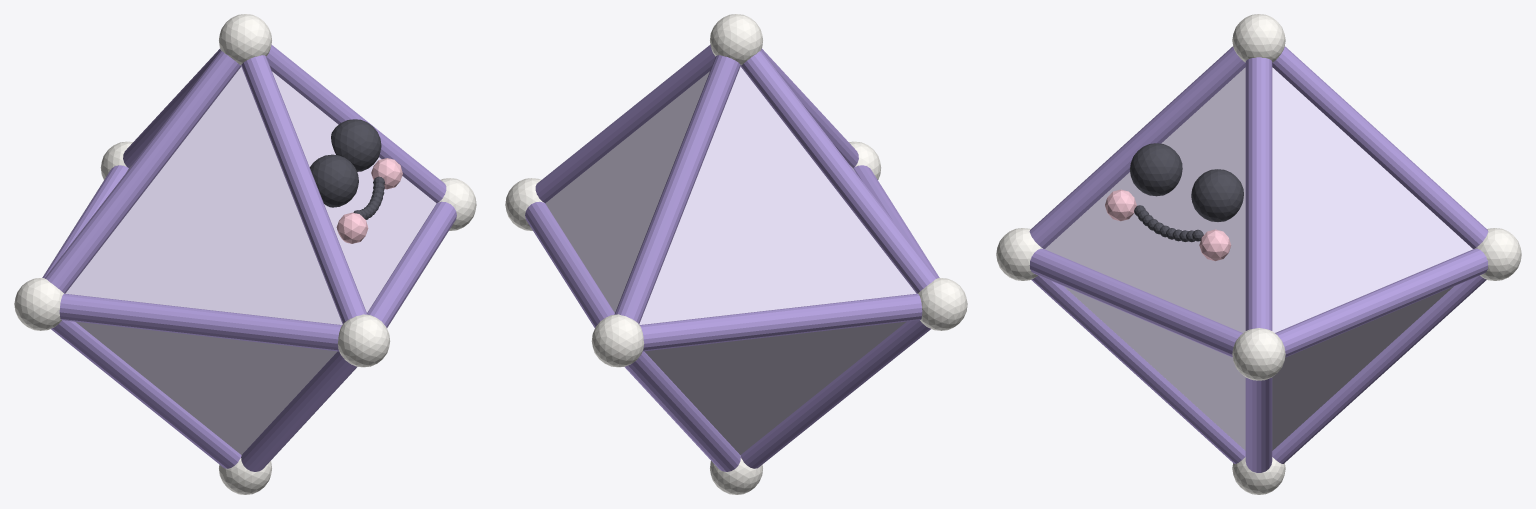
Rendered from 8octahedron_cute_smile_facets_edges_vertices.glb.
The picture shows the model from 3 angles, left to right: view 1: azimuth 30°, elevation 25°; view 2: azimuth 150°, elevation 25°; view 3: azimuth 270°, elevation 25°; orthographic projection.
Visible parts, largest first — view 1: OctaBody, OctaEdges, OctaVertices, CuteFaceFeatures, CuteCheeks; view 2: OctaBody, OctaEdges, OctaVertices; view 3: OctaBody, OctaEdges, OctaVertices, CuteFaceFeatures, CuteCheeks.
Part boxes in pixels (x1=…): OctaBody: x1=65, y1=66, x2=436, y2=454; OctaEdges: x1=42, y1=44, x2=456, y2=471; OctaVertices: x1=14, y1=14, x2=476, y2=494; CuteFaceFeatures: x1=310, y1=119, x2=384, y2=219; CuteCheeks: x1=336, y1=158, x2=402, y2=243; OctaBody: x1=545, y1=66, x2=916, y2=454; OctaEdges: x1=525, y1=44, x2=939, y2=471; OctaVertices: x1=505, y1=14, x2=967, y2=494; OctaBody: x1=1045, y1=67, x2=1472, y2=450; OctaEdges: x1=1029, y1=46, x2=1488, y2=472; OctaVertices: x1=996, y1=14, x2=1521, y2=494; CuteFaceFeatures: x1=1129, y1=143, x2=1243, y2=242; CuteCheeks: x1=1105, y1=189, x2=1231, y2=261.
Bounding box in the file's own units: 2.23 × 2.23 × 2.23.
